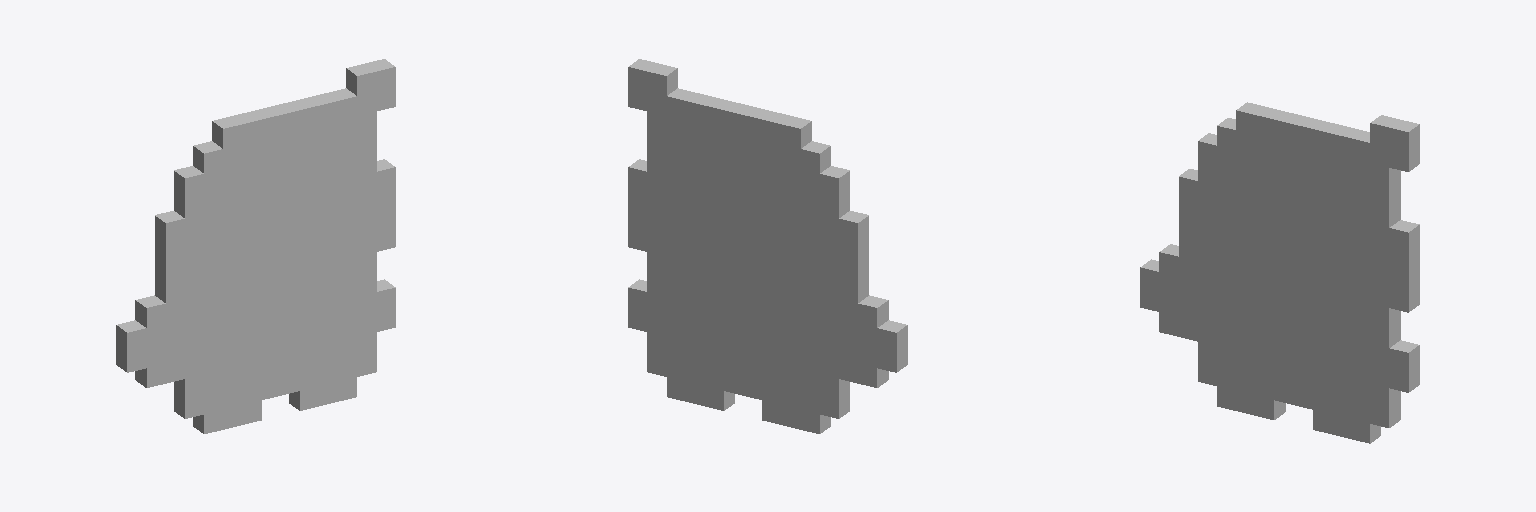
The model's file is girl throw.obj.
3 views of the same model, side by side, from view 1: azimuth 30°, elevation 25°; view 2: azimuth 150°, elevation 25°; view 3: azimuth 330°, elevation 25° (orthographic).
Parts seen in each view (by area): view 1: object 1; view 2: object 1; view 3: object 1.
Boxes of the visible parts, box(x1,y1,x2,y2) form: object 1: box(116, 59, 395, 433); object 1: box(628, 59, 907, 433); object 1: box(1140, 102, 1419, 443).
Bounding box in the file's own units: 1.4 × 1.6 × 0.1.